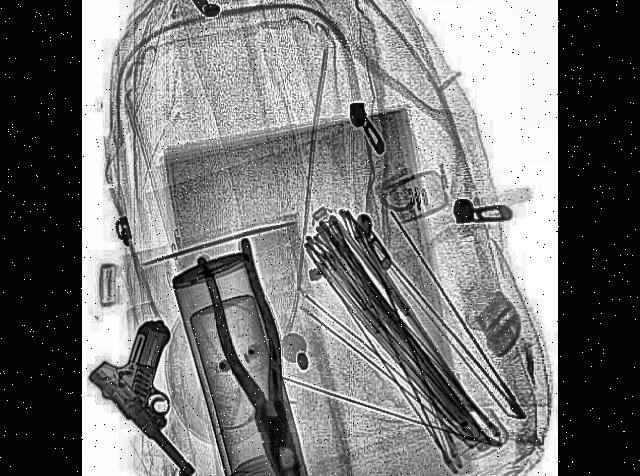Gun: (89, 288, 233, 476)
Pliers: (198, 227, 321, 476)
